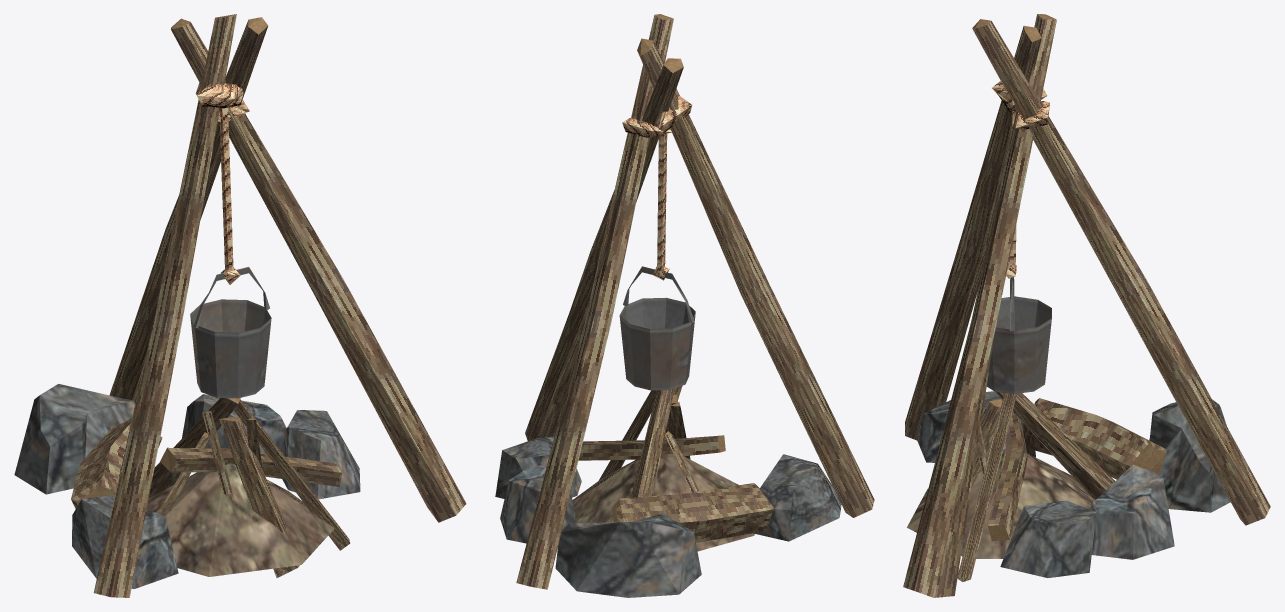
Rendered from C1SMCAMPFIRE_H.obj.
3 views of the same model, side by side, from view 1: azimuth 30°, elevation 25°; view 2: azimuth 150°, elevation 25°; view 3: azimuth 270°, elevation 25° (orthographic). The views are drawn at different scales.
Parts seen in each view (by area): view 1: Node 0, Node 6, Node 4, Node 3, Node 5; view 2: Node 0, Node 5, Node 6, Node 3, Node 4; view 3: Node 0, Node 5, Node 4, Node 6, Node 3.
Boxes of the visible parts, x1=… form: Node 0: x1=14, y1=384, x2=360, y2=588; Node 6: x1=93, y1=14, x2=243, y2=597; Node 4: x1=171, y1=18, x2=466, y2=522; Node 3: x1=190, y1=107, x2=271, y2=398; Node 5: x1=109, y1=17, x2=268, y2=403; Node 0: x1=495, y1=385, x2=841, y2=597; Node 5: x1=516, y1=14, x2=673, y2=589; Node 6: x1=637, y1=38, x2=874, y2=517; Node 3: x1=619, y1=133, x2=695, y2=390; Node 4: x1=525, y1=58, x2=683, y2=440; Node 0: x1=907, y1=391, x2=1230, y2=582; Node 5: x1=972, y1=19, x2=1270, y2=525; Node 4: x1=903, y1=14, x2=1056, y2=597; Node 6: x1=905, y1=25, x2=1047, y2=440; Node 3: x1=986, y1=110, x2=1051, y2=393.
Bounding box in the file's own units: 2.96 × 4.21 × 2.63.
Materials: 10 (10 with a texture image).
